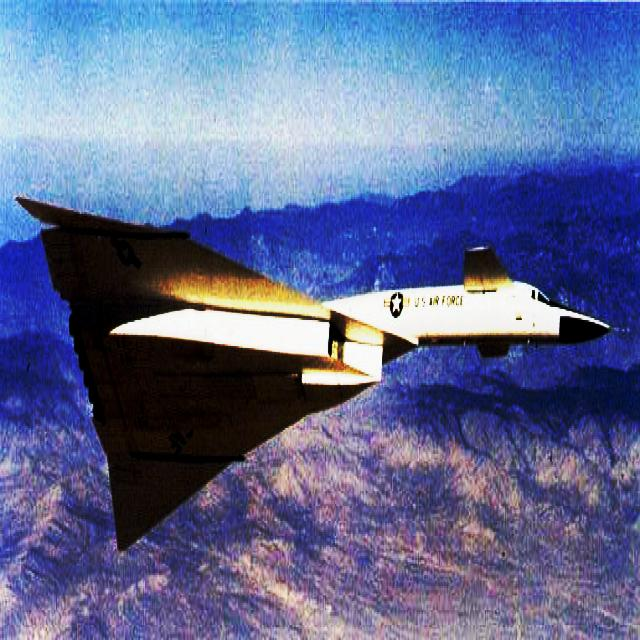Aircraft: (15, 192, 612, 550)
